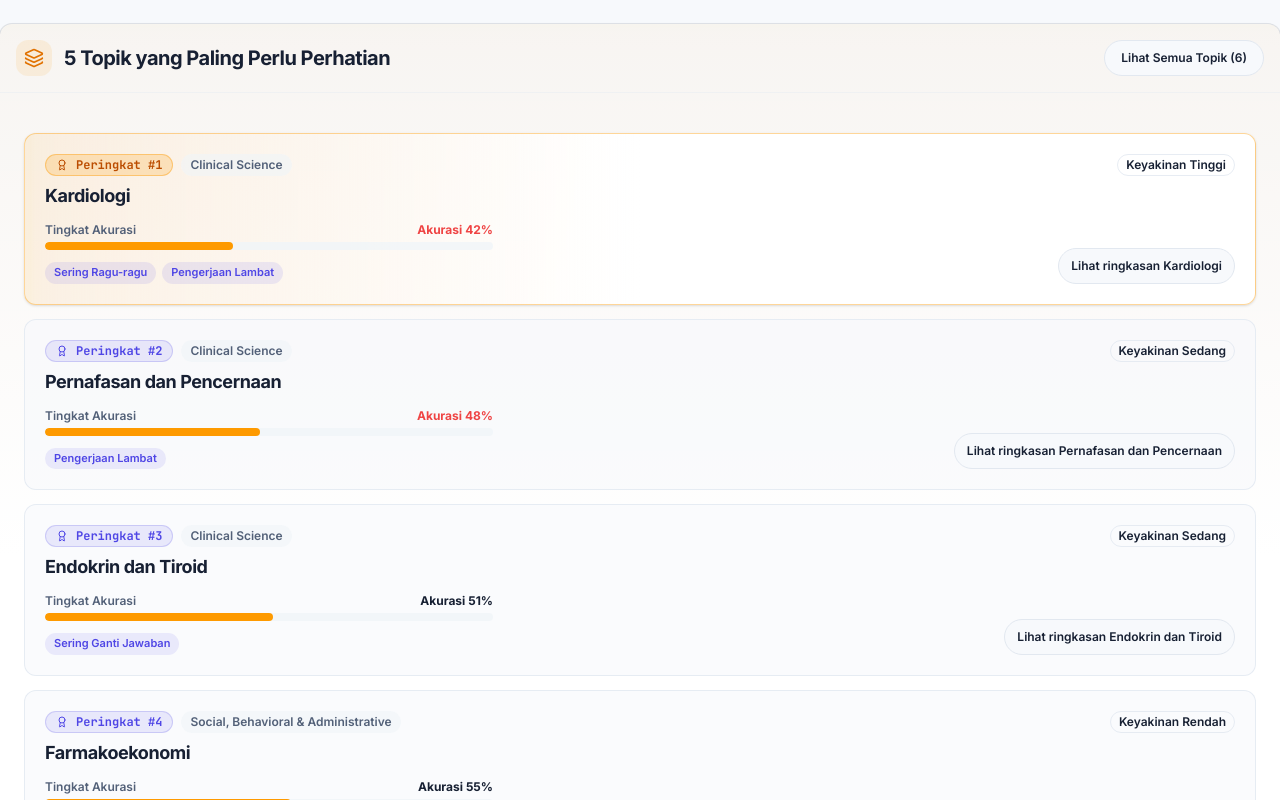
Test: Subtopic ranking list › shows the inline detail summary when a subtopic card is expanded
The image size is (1280, 800).
Click the button "Lihat ringkasan Kardiologi": click(1147, 266) x1=1058 y1=248 x2=1235 y2=284
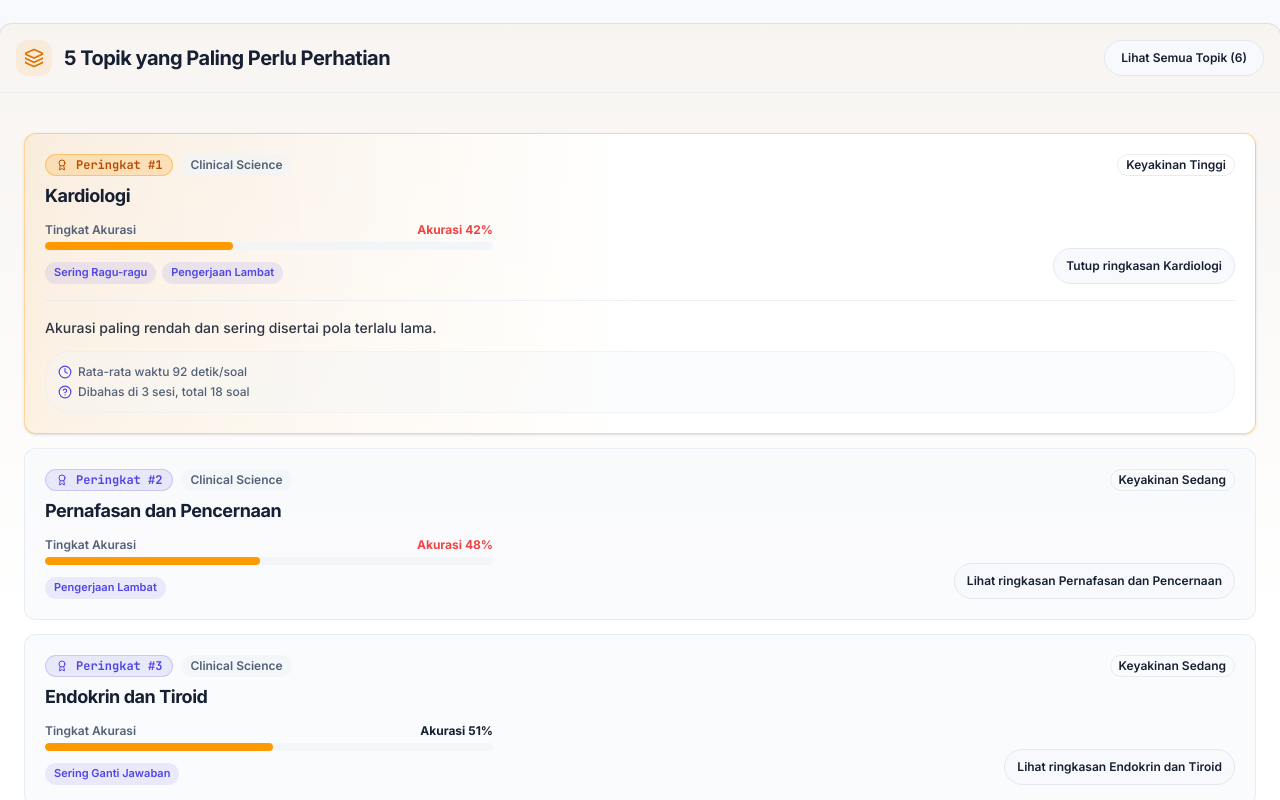
Now the text "Akurasi paling rendah dan sering disertai pola terlalu lama." is shown, box x1=45 y1=319 x2=437 y2=336
Now the text "Rata-rata waktu 92 detik/soal" is shown, box x1=58 y1=364 x2=247 y2=380
Now the text "Dibahas di 3 sesi, total 18 soal" is shown, box x1=58 y1=384 x2=250 y2=400
